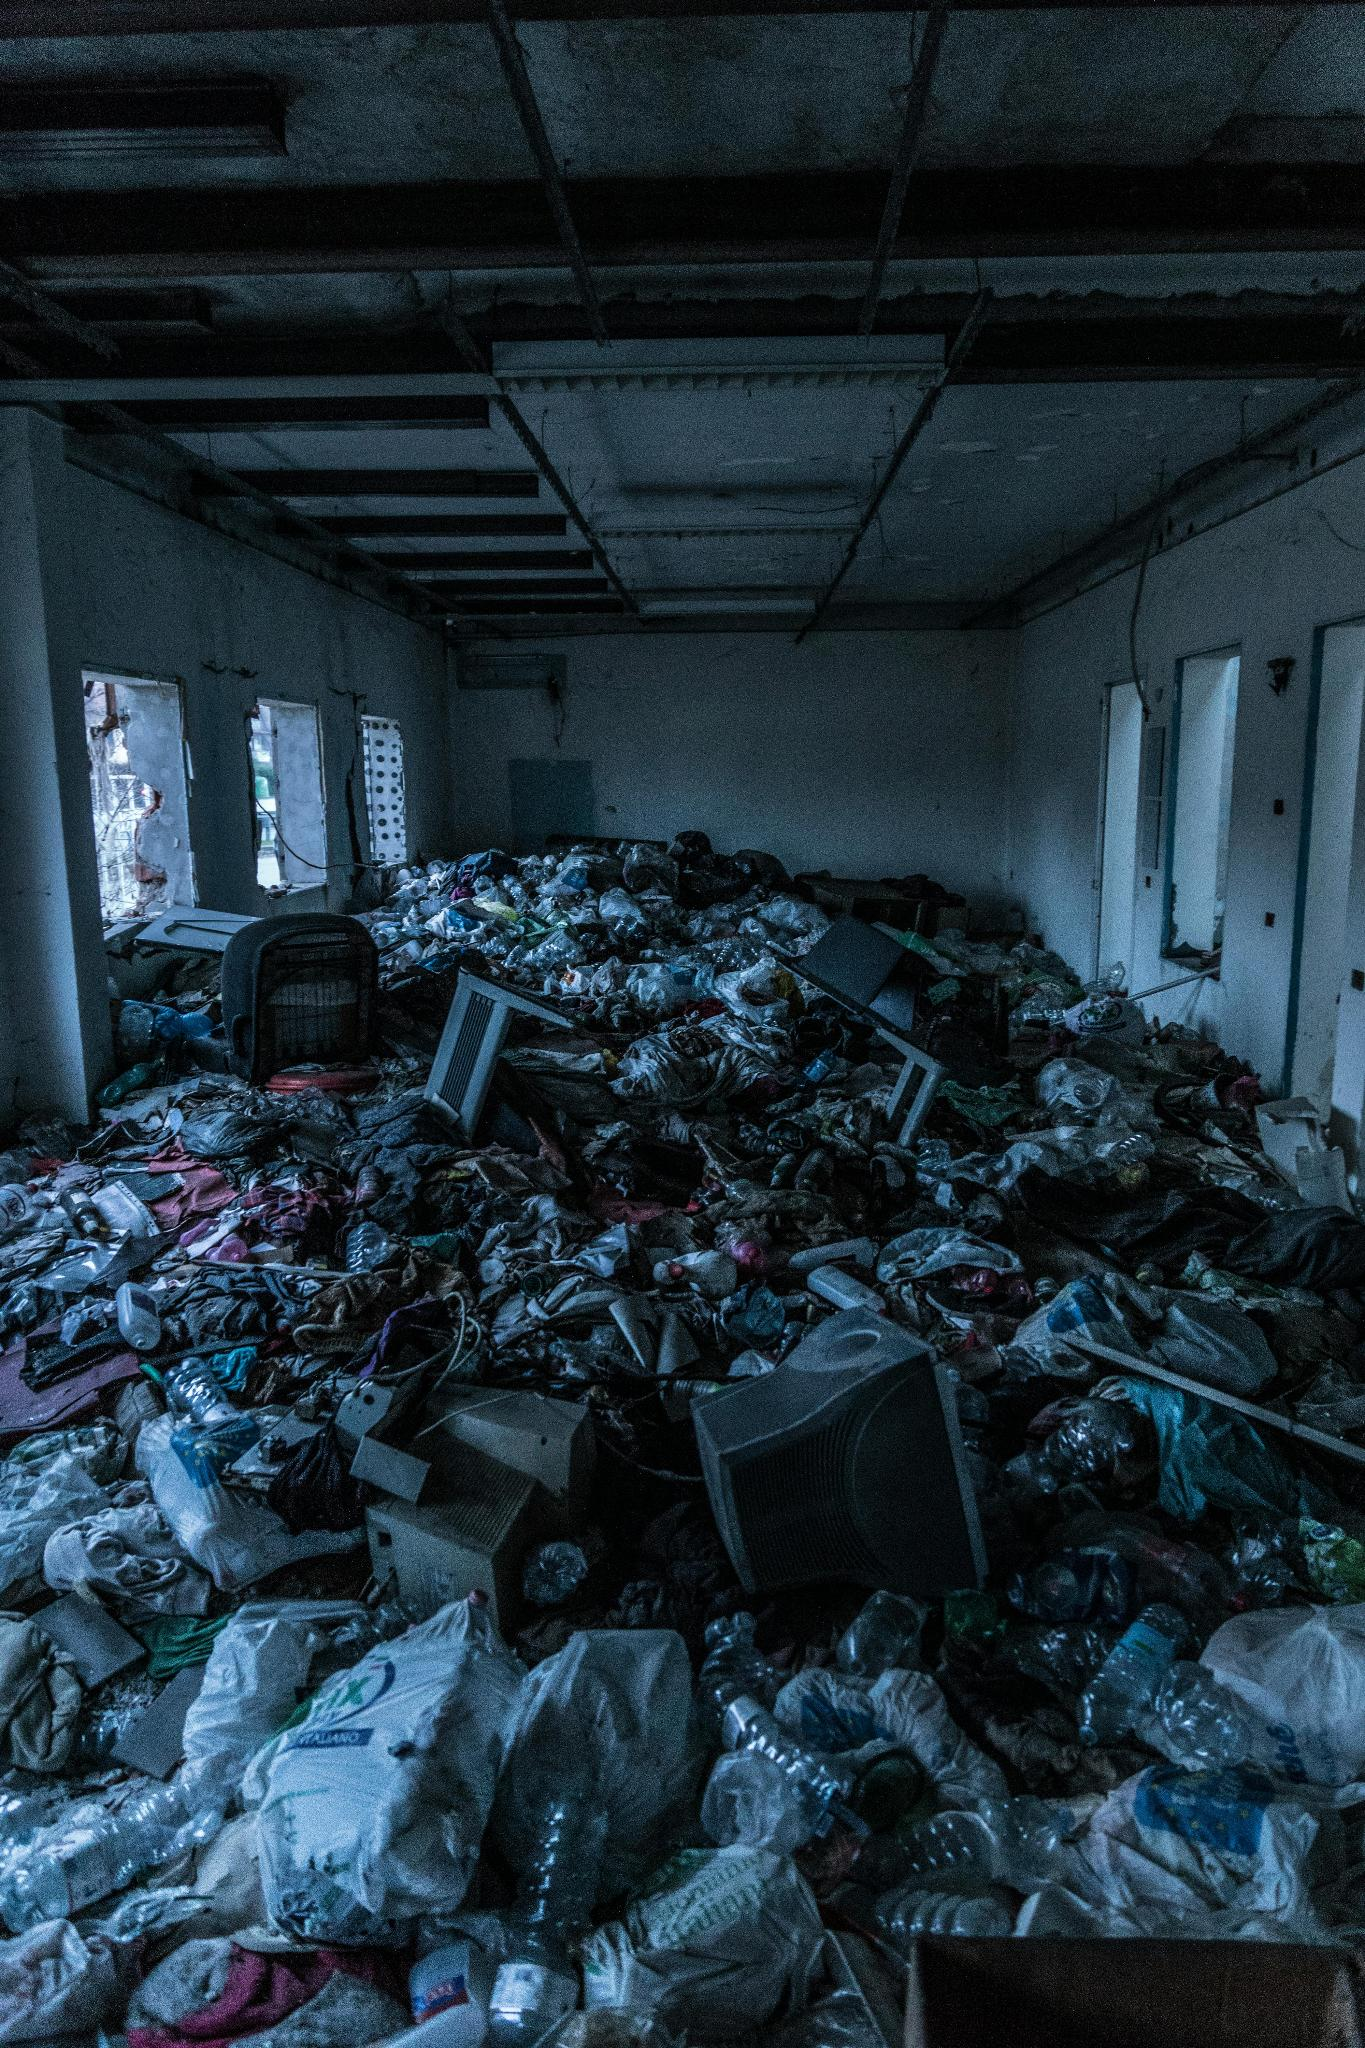Trash: (27, 614, 1365, 2048)
